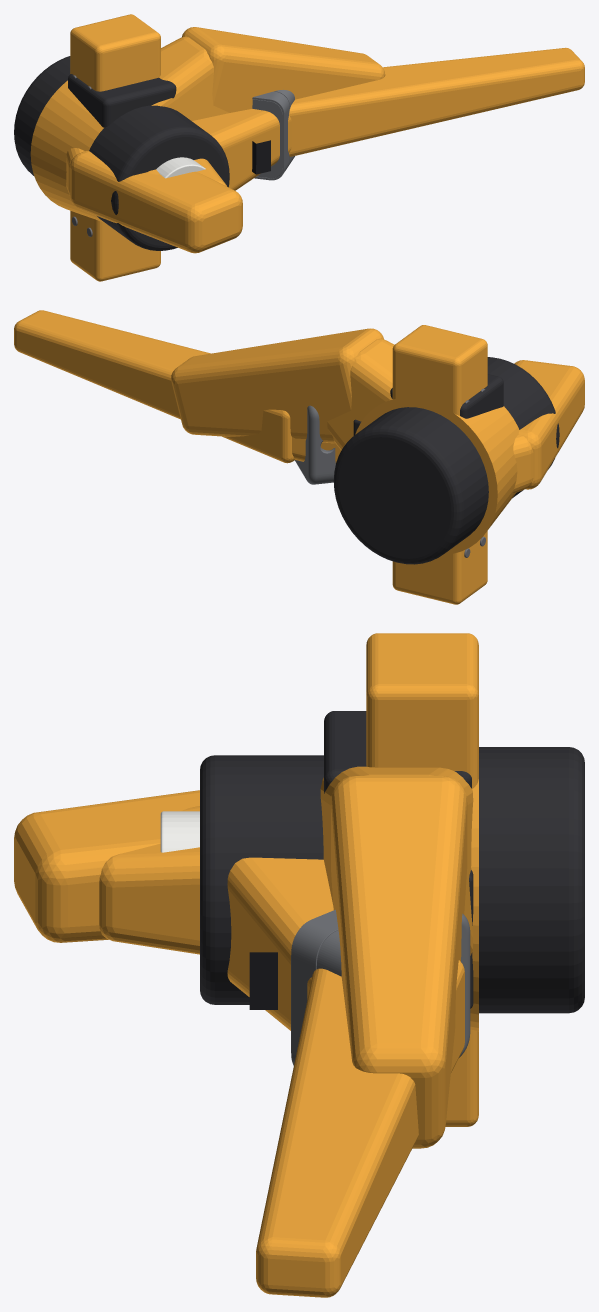
The model's file is arm.glb.
3 views of the same model, one above another, from view 1: azimuth 30°, elevation 25°; view 2: azimuth 150°, elevation 25°; view 3: azimuth 270°, elevation 25° (orthographic). The views are drawn at different scales.
Parts seen in each view (by area): view 1: b5, b3, b2, b10, b1, b8, b4; view 2: b3, b5, b10, b2, b1; view 3: b3, b5, b10, b2, b4, b8, b1.
Boxes of the visible parts, x1,y1,x2,y2 form: b5: (89, 47, 584, 250); b3: (14, 27, 385, 175); b2: (66, 74, 242, 253); b10: (70, 14, 294, 281); b1: (30, 80, 104, 222); b8: (252, 140, 270, 174); b4: (147, 158, 226, 186); b3: (171, 328, 488, 564); b5: (14, 310, 559, 498); b10: (295, 325, 487, 604); b2: (390, 360, 584, 493); b1: (355, 397, 519, 554); b3: (320, 747, 584, 1148); b5: (160, 755, 464, 1297); b10: (291, 633, 478, 1126); b2: (14, 711, 471, 942); b4: (99, 806, 199, 954); b8: (249, 952, 277, 1009); b1: (470, 779, 478, 1031).
Bounding box in the file's own units: 0.2723 × 0.1222 × 0.1431.
